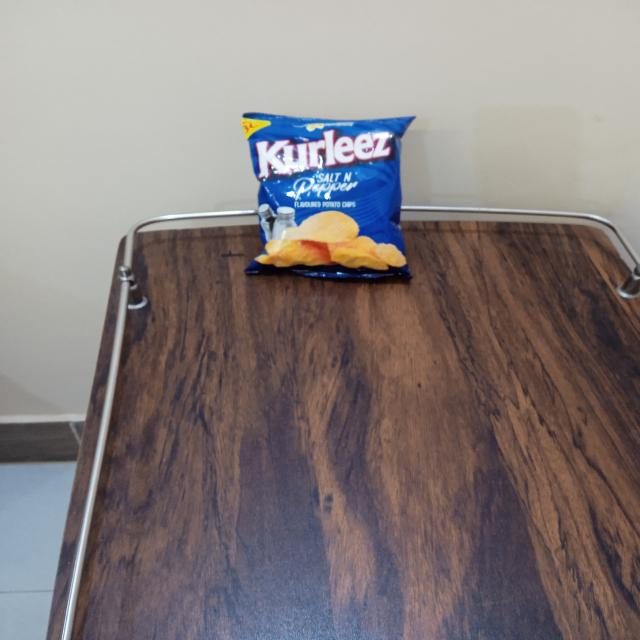Plastic: (230, 105, 424, 288)
